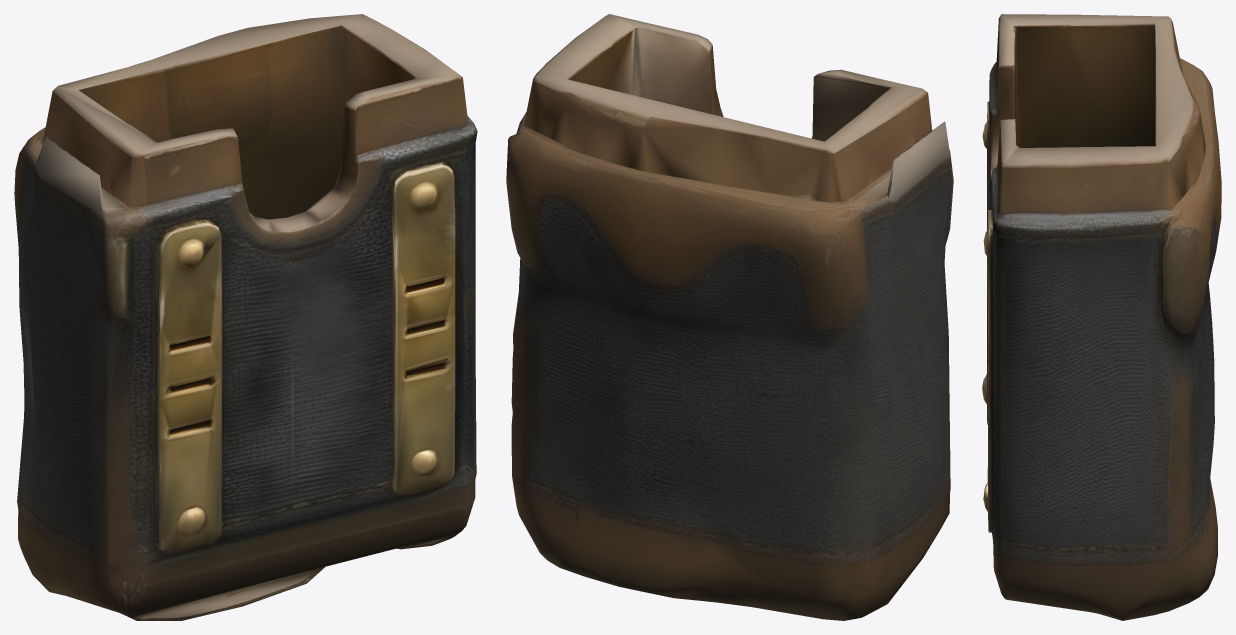
Rendered from WoodCase.fbx.
3 views of the same model, side by side, from view 1: azimuth 30°, elevation 25°; view 2: azimuth 150°, elevation 25°; view 3: azimuth 270°, elevation 25° (orthographic). The views are drawn at different scales.
Visible parts, largest first — view 1: WoodCase_LOD0; view 2: WoodCase_LOD0; view 3: WoodCase_LOD0.
Part boxes in pixels (<box>): WoodCase_LOD0: <box>14,14,477,620</box>; WoodCase_LOD0: <box>506,14,953,620</box>; WoodCase_LOD0: <box>982,14,1221,620</box>.
Size of what is drawn, in the model's own units: 0.078 by 0.092 by 0.044.
1 material, 1 textured.
